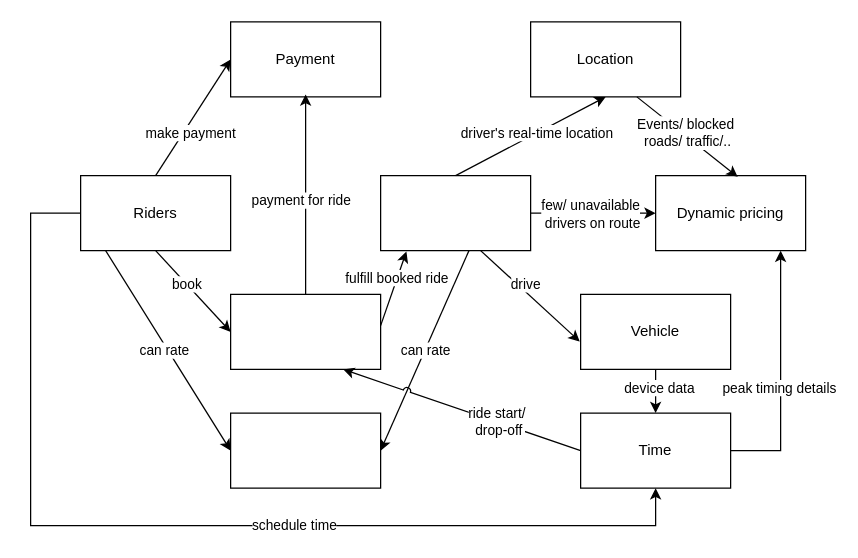
This 858x558 diagram has some shape labels left out. The centre of each missing label's shape, as x and y in pixels:
Drivers: the point at 455,212
Ratings: the point at 305,450
Rides: the point at 305,331
